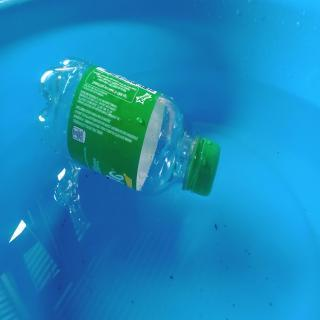bottle: (35, 55, 224, 198)
